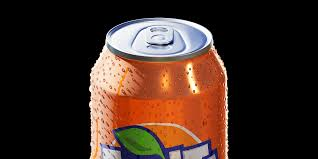can: (89, 16, 229, 159)
